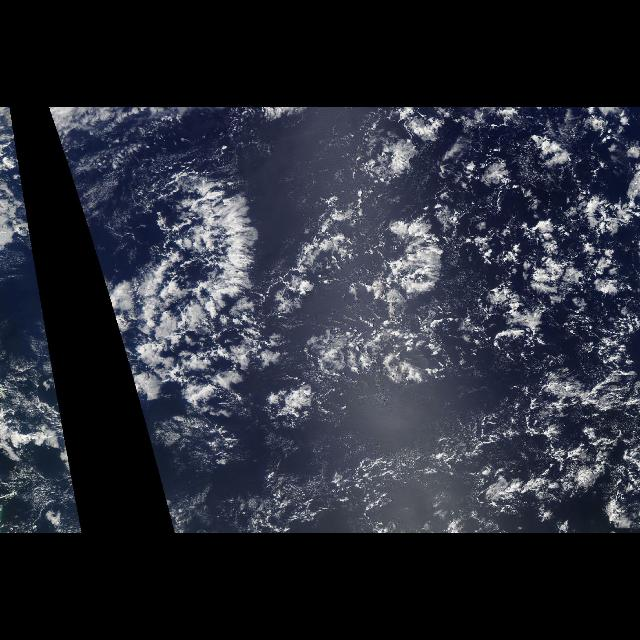Fish: (109, 162, 259, 364)
Flower: (375, 110, 637, 416)
Gravel: (355, 426, 637, 526)
Sugar: (329, 386, 451, 454)
